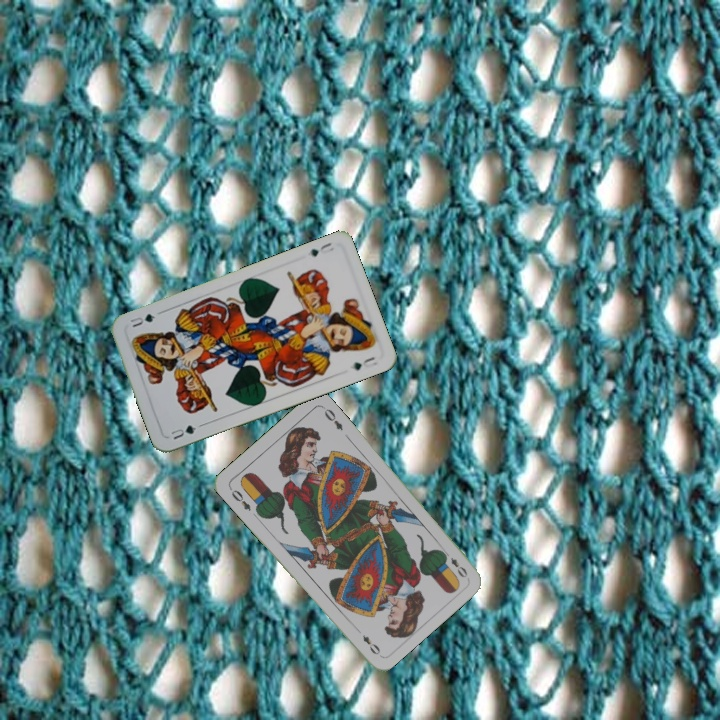EO: (439, 546, 470, 580), (225, 484, 254, 514)
GU: (167, 421, 199, 442), (305, 238, 336, 259)
